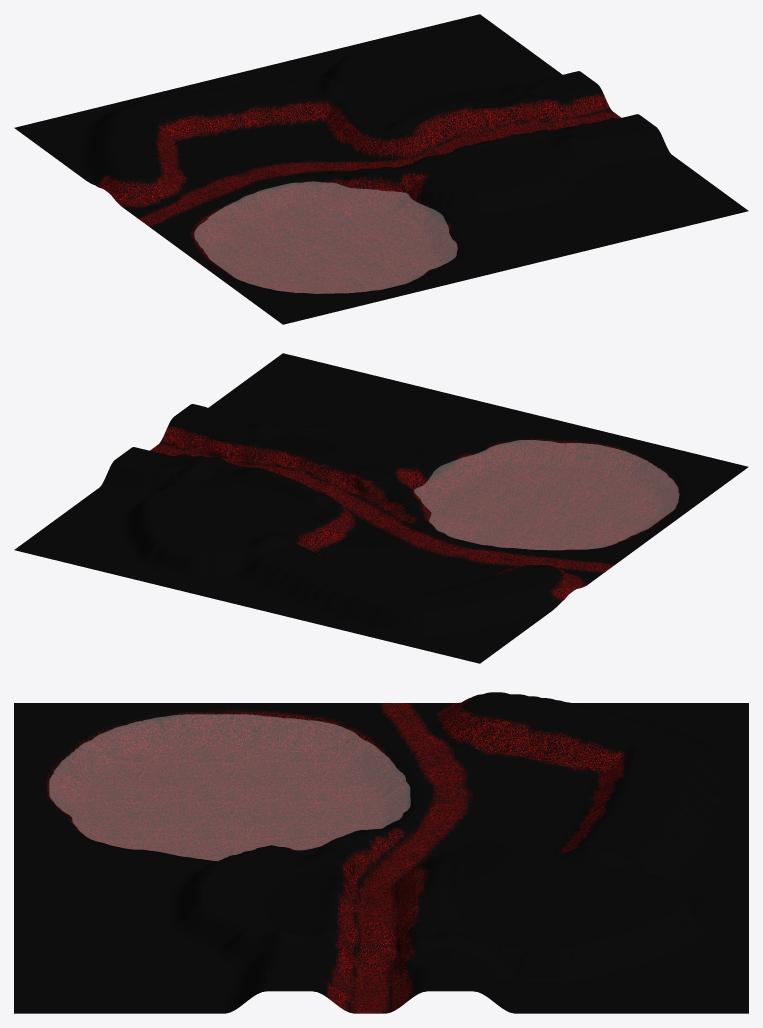
File: lv1terrain.glb
3 views of the same model, one above another, from view 1: azimuth 30°, elevation 25°; view 2: azimuth 150°, elevation 25°; view 3: azimuth 270°, elevation 25° (orthographic). The views are drawn at different scales.
Parts seen in each view (by area): view 1: terrain, lake; view 2: terrain, lake; view 3: terrain, lake.
Part boxes in pixels (x1,y1,x2,y2): terrain: (14, 14, 748, 324); lake: (194, 181, 457, 293); terrain: (14, 353, 748, 663); lake: (414, 440, 679, 549); terrain: (14, 692, 748, 1013); lake: (49, 714, 410, 860).
Bounding box in the file's own units: 80 × 7.04 × 80.
Materials: 2 (1 with a texture image).
